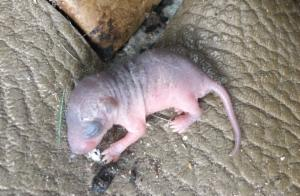rat: (63, 46, 242, 165)
